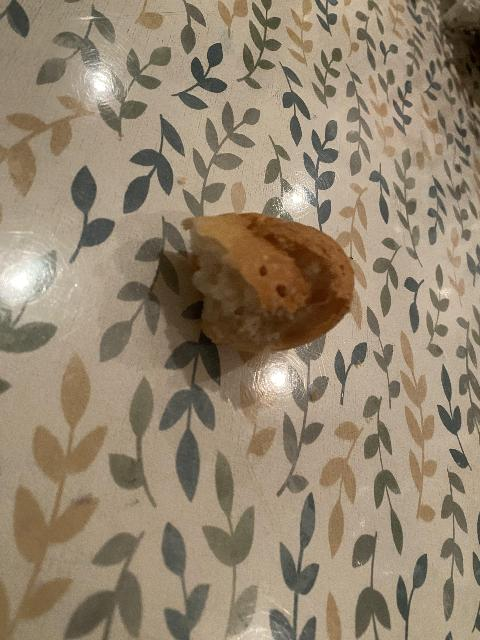Organik: (178, 211, 360, 349)
